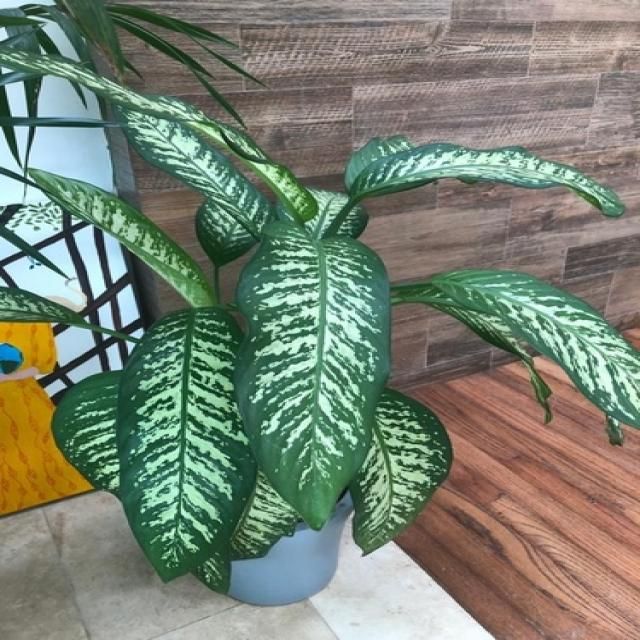dieffenbachia-oVHx: (0, 45, 640, 594)
